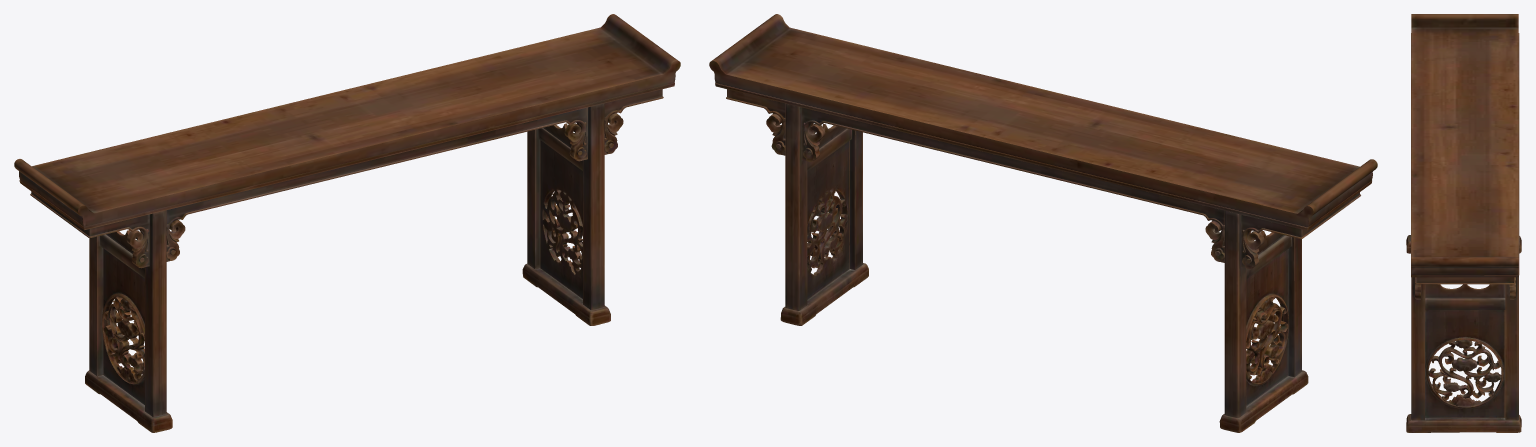
Rendered from chinese_console_table.glb.
3 views of the same model, side by side, from view 1: azimuth 30°, elevation 25°; view 2: azimuth 150°, elevation 25°; view 3: azimuth 270°, elevation 25° (orthographic). The views are drawn at different scales.
Visible parts, largest first — view 1: chinese_console_table; view 2: chinese_console_table; view 3: chinese_console_table.
Part boxes in pixels (x1=…): chinese_console_table: x1=14, y1=14, x2=680, y2=432; chinese_console_table: x1=709, y1=14, x2=1377, y2=432; chinese_console_table: x1=1406, y1=14, x2=1521, y2=432.
Bounding box in the file's own units: 1.72 × 0.6607 × 0.3388.
Materials: 1 (1 with a texture image).
